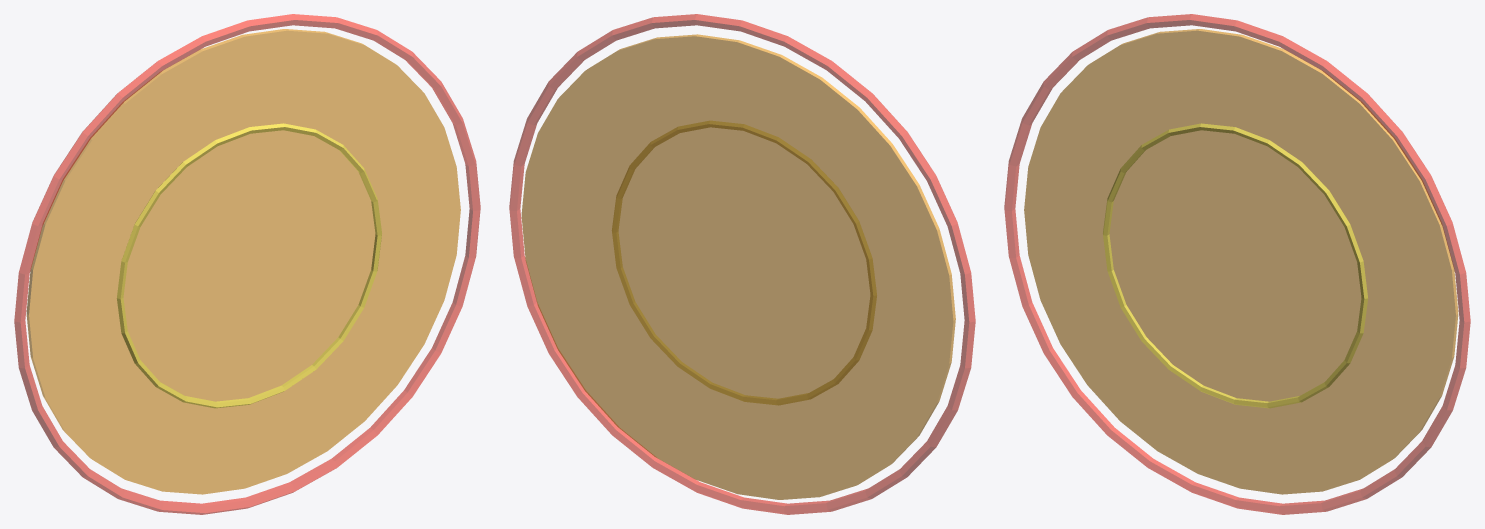
File: telegraph_warning_circle_large.glb
3 views of the same model, side by side, from view 1: azimuth 30°, elevation 25°; view 2: azimuth 150°, elevation 25°; view 3: azimuth 330°, elevation 25° (orthographic).
Visible parts, largest first — view 1: disc, ring, inner; view 2: disc, ring, inner; view 3: disc, ring, inner.
Boxes of the visible parts, <box> form: disc: <box>26,29,460,494</box>; ring: <box>14,14,480,514</box>; inner: <box>116,123,381,408</box>; disc: <box>521,34,955,499</box>; ring: <box>509,14,975,514</box>; inner: <box>612,121,876,404</box>; disc: <box>1024,29,1458,494</box>; ring: <box>1004,14,1470,514</box>; inner: <box>1103,123,1368,408</box>.
Size of the model in its own units: 2.7 by 2.7 by 0.0876.
